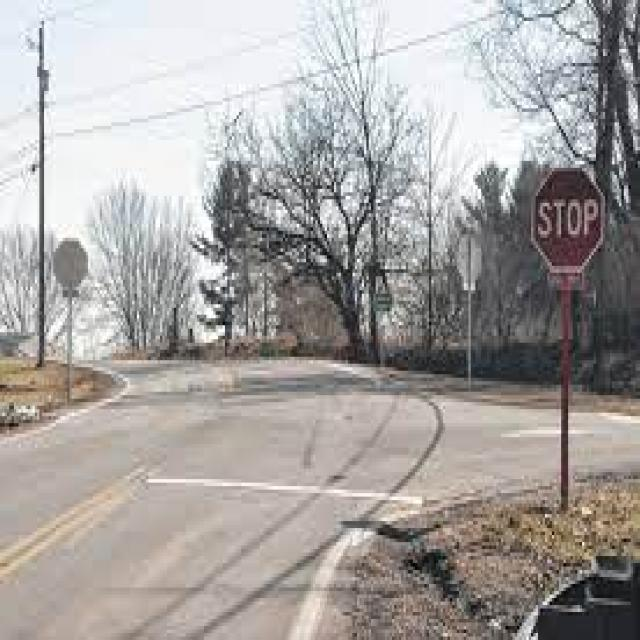stop-sign: (529, 165, 640, 286)
